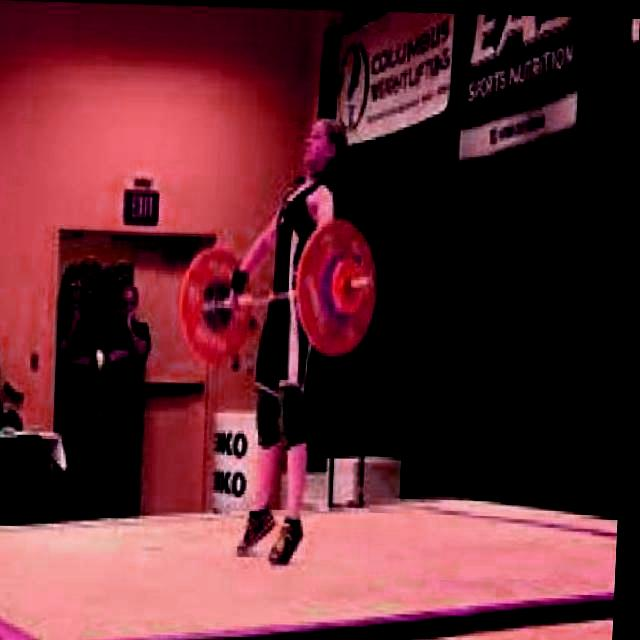barbell: (286, 210, 384, 359)
